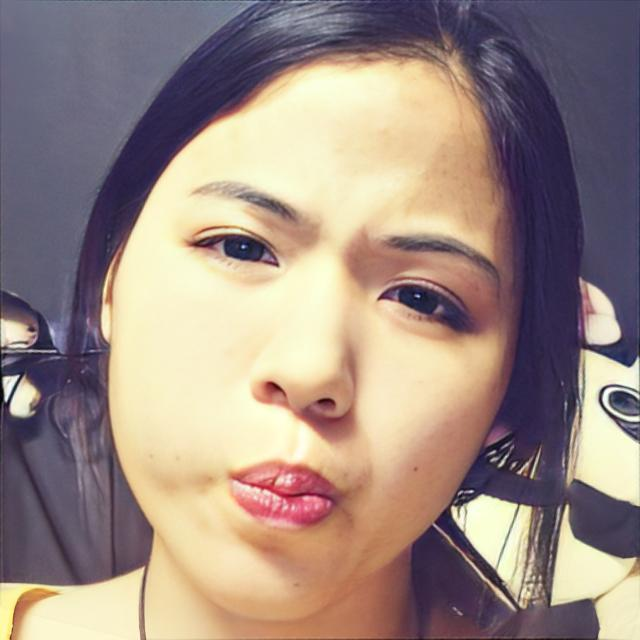anger: (105, 46, 525, 604)
